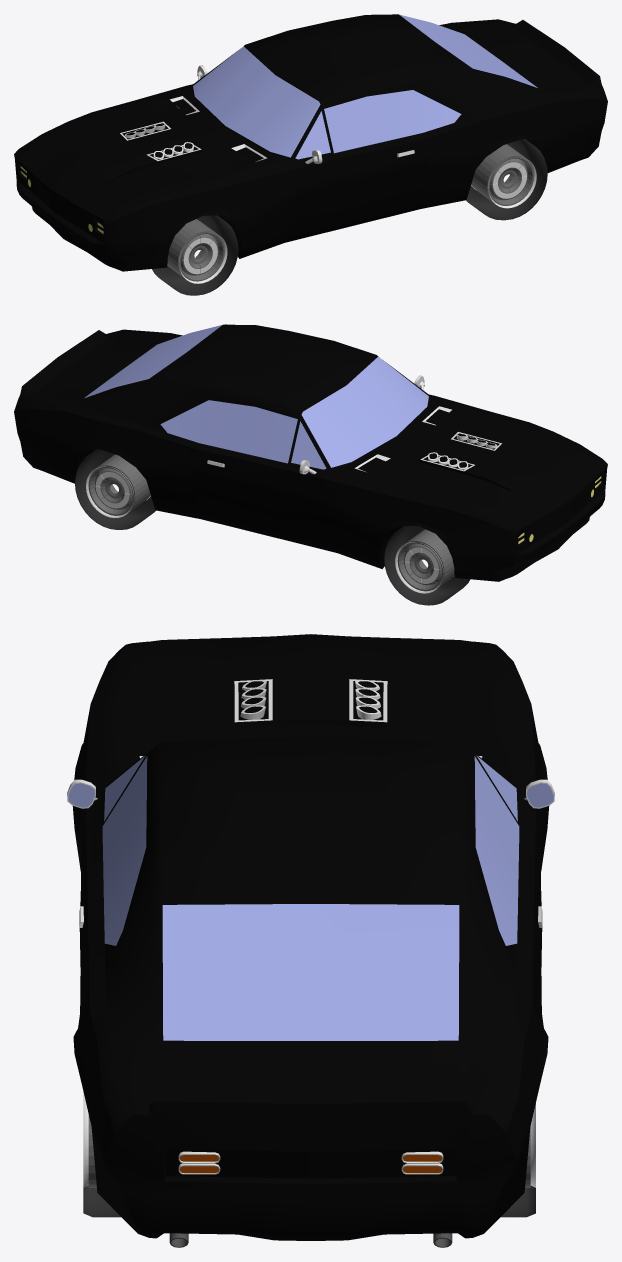
File: car_dodge.fbx
3 renders of one model, top to bottom at view 1: azimuth 30°, elevation 25°; view 2: azimuth 150°, elevation 25°; view 3: azimuth 270°, elevation 25°, orthographic. The views are drawn at different scales.
Visible parts, largest first — view 1: Cube.036, Шина, Шина.001; view 2: Cube.036, Шина.003, Шина.002; view 3: Cube.036, Шина, Шина.003.
Boxes of the visible parts, bbox=[...] form: Cube.036: bbox=[14, 14, 607, 271]; Шина: bbox=[466, 139, 547, 220]; Шина.001: bbox=[152, 215, 238, 295]; Cube.036: bbox=[14, 324, 607, 581]; Шина.003: bbox=[75, 449, 155, 529]; Шина.002: bbox=[384, 526, 470, 605]; Cube.036: bbox=[67, 634, 554, 1247]; Шина: bbox=[83, 1092, 120, 1217]; Шина.003: bbox=[501, 1103, 535, 1217].
Size of the model in its own units: 610 by 174 by 251.
